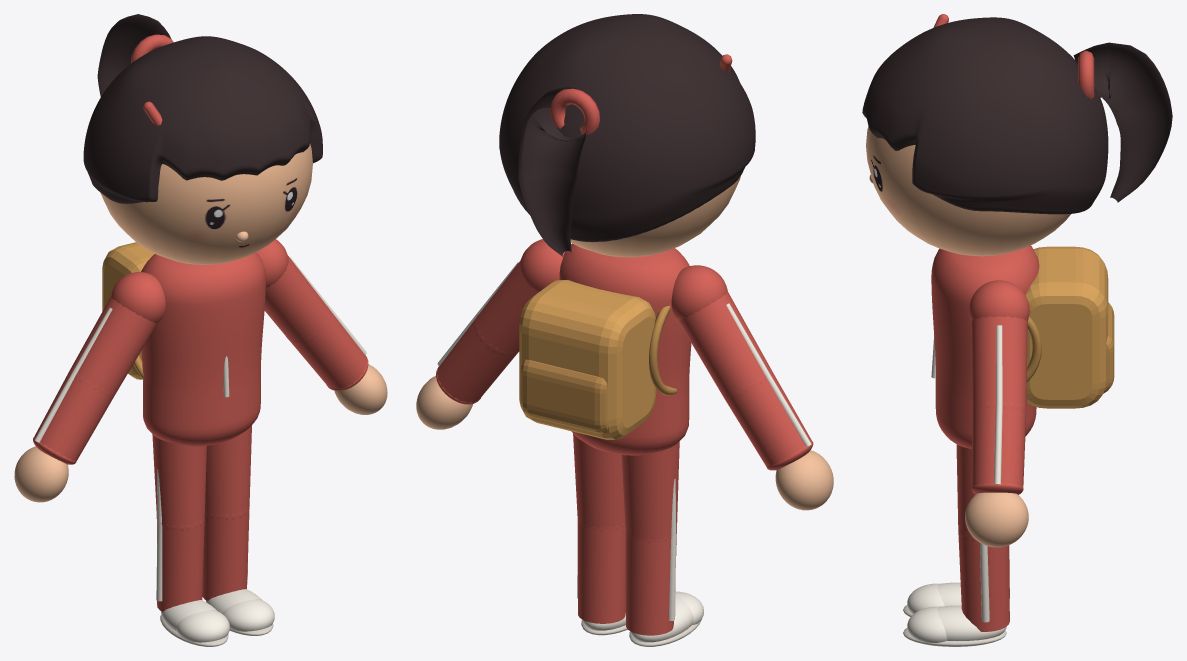
Rendered from mei_teen.glb.
The picture shows the model from 3 angles, left to right: view 1: azimuth 30°, elevation 25°; view 2: azimuth 150°, elevation 25°; view 3: azimuth 270°, elevation 25°; orthographic projection. The views are drawn at different scales.
Visible parts, largest first — view 1: hair, torso, head, upper_arm_R, pelvis, upper_arm_L, thigh_R, lower_arm_R, shin_R, thigh_L, shin_L, lower_arm_L (+4 smaller); view 2: hair, torso, upper_arm_R, thigh_R, shin_R, upper_arm_L, lower_arm_R, shin_L, thigh_L, lower_arm_L, head, pelvis (+3 smaller); view 3: hair, torso, head, upper_arm_L, lower_arm_L, shin_L, hand_L, shoe_L, pelvis, shoe_R, thigh_L.
Part boxes in pixels (box(x1,y1,x2,y2)): hair: box(83, 14, 322, 203); torso: box(102, 242, 265, 405); head: box(100, 143, 312, 264); upper_arm_R: box(68, 272, 165, 397); pelvis: box(143, 379, 260, 446); upper_arm_L: box(256, 239, 330, 344); thigh_R: box(152, 434, 206, 531); lower_arm_R: box(33, 371, 113, 464); shin_R: box(156, 519, 204, 611); thigh_L: box(205, 425, 251, 520); shin_L: box(202, 508, 249, 600); lower_arm_L: box(289, 304, 368, 390); hair: box(499, 14, 755, 256); torso: box(519, 243, 691, 439); upper_arm_R: box(671, 265, 772, 401); thigh_R: box(621, 441, 679, 543); shin_R: box(625, 531, 676, 635); upper_arm_L: box(474, 239, 565, 356); lower_arm_R: box(725, 371, 813, 470); shin_L: box(577, 520, 625, 623); thigh_L: box(573, 434, 625, 531); lower_arm_L: box(436, 312, 518, 404); head: box(570, 176, 740, 257); pelvis: box(571, 395, 689, 455); hair: box(862, 14, 1172, 214); torso: box(931, 245, 1114, 409); head: box(866, 126, 1070, 256); upper_arm_L: box(969, 280, 1029, 412); lower_arm_L: box(971, 404, 1026, 494); shin_L: box(958, 530, 1009, 631); hand_L: box(965, 492, 1028, 547); shoe_L: box(903, 605, 1006, 646); pelvis: box(935, 383, 1036, 448); shoe_R: box(903, 582, 961, 616); thigh_L: box(956, 444, 978, 542).
Bounding box in the file's own units: 1.03 × 1.51 × 0.7084.
9 materials, 1 textured.
